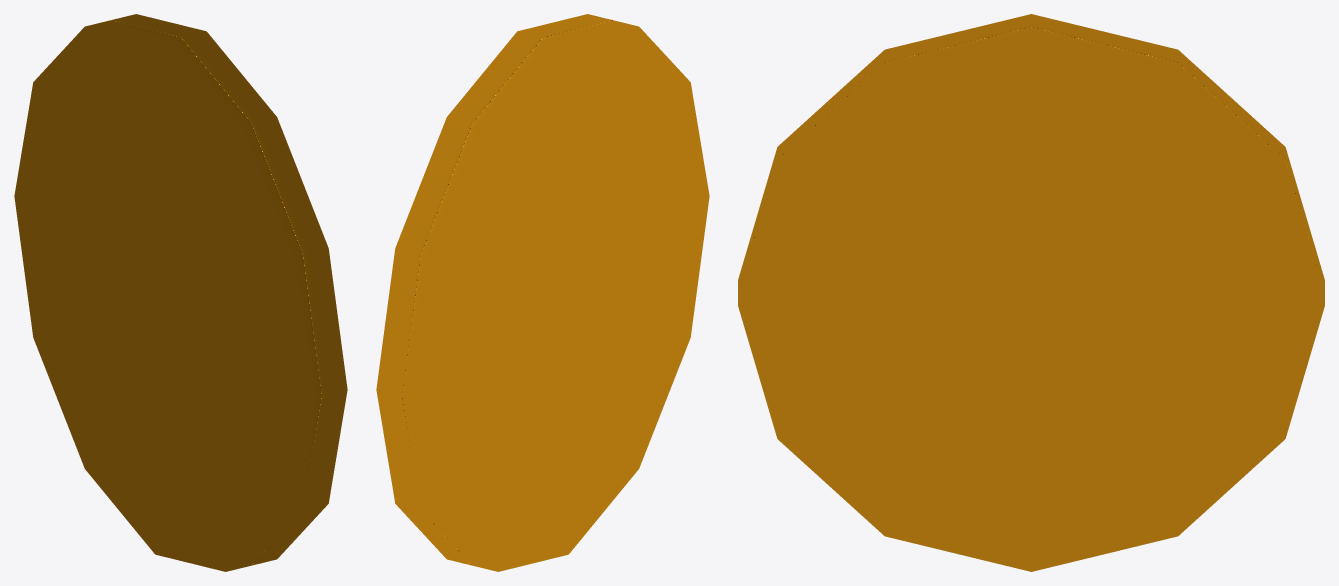
File: Bar1.gltf
3 views of the same model, side by side, from view 1: azimuth 30°, elevation 25°; view 2: azimuth 150°, elevation 25°; view 3: azimuth 270°, elevation 25° (orthographic). The views are drawn at different scales.
Visible parts, largest first — view 1: Cylinder.003; view 2: Cylinder.003; view 3: Cylinder.003.
Boxes of the visible parts, bbox=[...] form: Cylinder.003: bbox=[14, 14, 347, 571]; Cylinder.003: bbox=[376, 14, 709, 571]; Cylinder.003: bbox=[738, 14, 1324, 571].
Size of the model in its own units: 0.000459 by 0.00435 by 0.00435.
